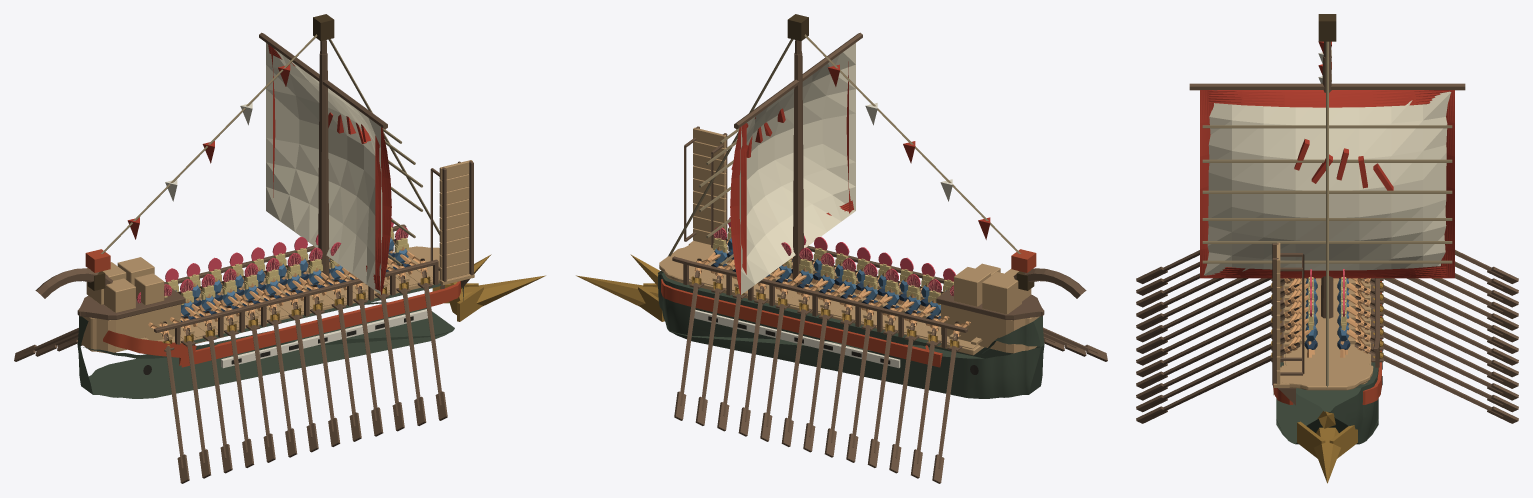
The model's file is warship-battle-v4.glb.
3 views of the same model, side by side, from view 1: azimuth 30°, elevation 25°; view 2: azimuth 150°, elevation 25°; view 3: azimuth 270°, elevation 25° (orthographic). The views are drawn at different scales.
Visible parts, largest first — view 1: sail, hull-low, n27, n281, mast, n295, n31, n253, n283, n29, hull-prow, n289 (+21 smaller); view 2: sail, hull-low, n3, n281, mast, n293, n233, n7, n273, n283, n277, Bow transfer deck (+18 smaller); view 3: sail, hull-low, n297, n299, Bow transfer deck, n289, n293, n295, n325, n307, n311, n301 (+29 smaller).
Part boxes in pixels (x1,y1,x2,y2): sail: (266,43,382,294); hull-low: (77,283,463,398); n27: (179,281,460,367); n281: (81,304,180,353); mast: (318,53,329,283); n295: (375,127,391,294); n31: (221,309,427,368); n253: (154,259,438,332); n283: (77,283,185,320); n29: (103,330,196,357); hull-prow: (449,275,545,314); n289: (259,32,387,129); sail: (739,43,855,294); hull-low: (658,270,1044,398); n3: (661,279,942,367); n281: (941,304,1039,353); mast: (792,53,803,285); n293: (730,123,746,294); n233: (672,256,967,332); n7: (694,309,900,368); n273: (982,272,1021,314); n283: (936,288,1044,320); n277: (954,267,990,306); Bow transfer deck: (659,242,727,282); sail: (1204,91,1451,275); hull-low: (1276,285,1378,444); n297: (1208,90,1449,107); n299: (1201,265,1446,278); Bow transfer deck: (1281,365,1373,390); n289: (1189,83,1465,90); n293: (1441,90,1454,278); n295: (1200,90,1213,278); n325: (1326,41,1328,388); n307: (1202,190,1452,193); n311: (1202,125,1452,128); n301: (1202,260,1452,263).
Bounding box in the file's own units: 6.41 × 4.2 × 3.75.
